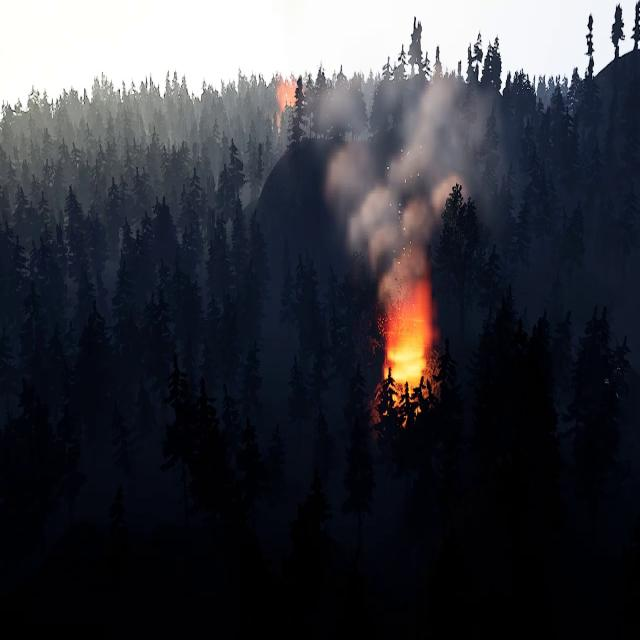fire: (378, 295, 430, 405), (277, 80, 301, 114)
smoke: (318, 76, 506, 299)
